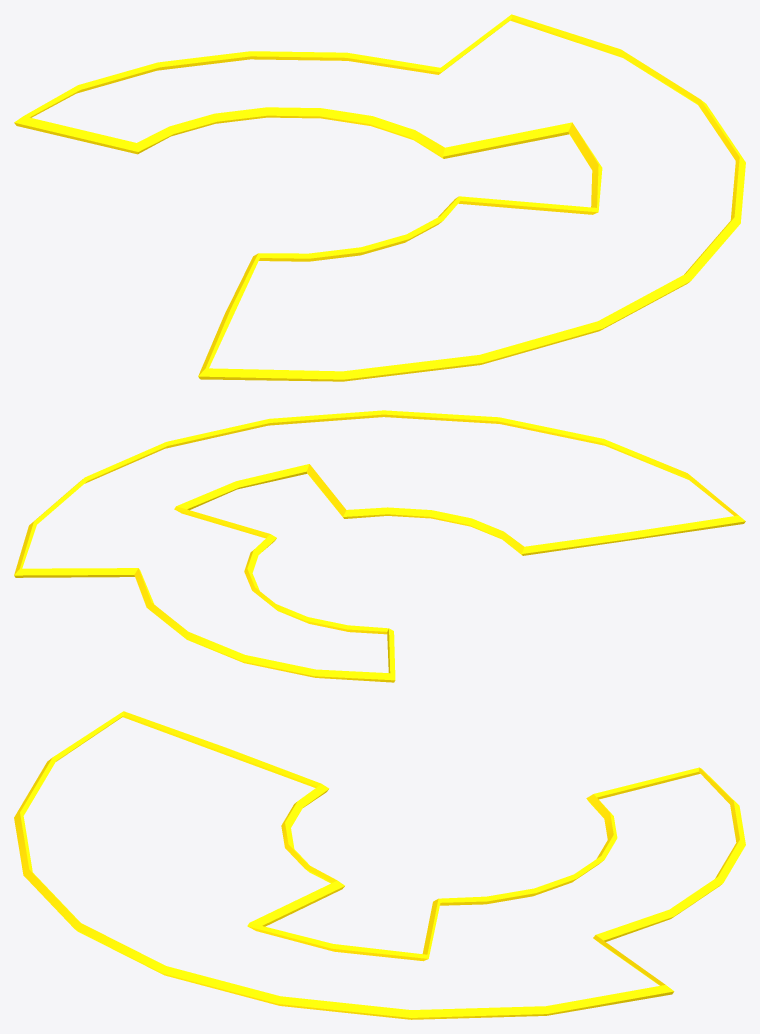
Rendered from light_1.fbx.
The picture shows the model from 3 angles, top to bottom: view 1: azimuth 30°, elevation 25°; view 2: azimuth 150°, elevation 25°; view 3: azimuth 270°, elevation 25°; orthographic projection. The views are drawn at different scales.
Visible parts, largest first — view 1: light_1; view 2: light_1; view 3: light_1.
Part boxes in pixels (<box>): light_1: <box>14,14,745,381</box>; light_1: <box>14,410,745,682</box>; light_1: <box>14,711,745,1019</box>.
Size of the model in its own units: 8.66 by 0.1167 by 8.77.
